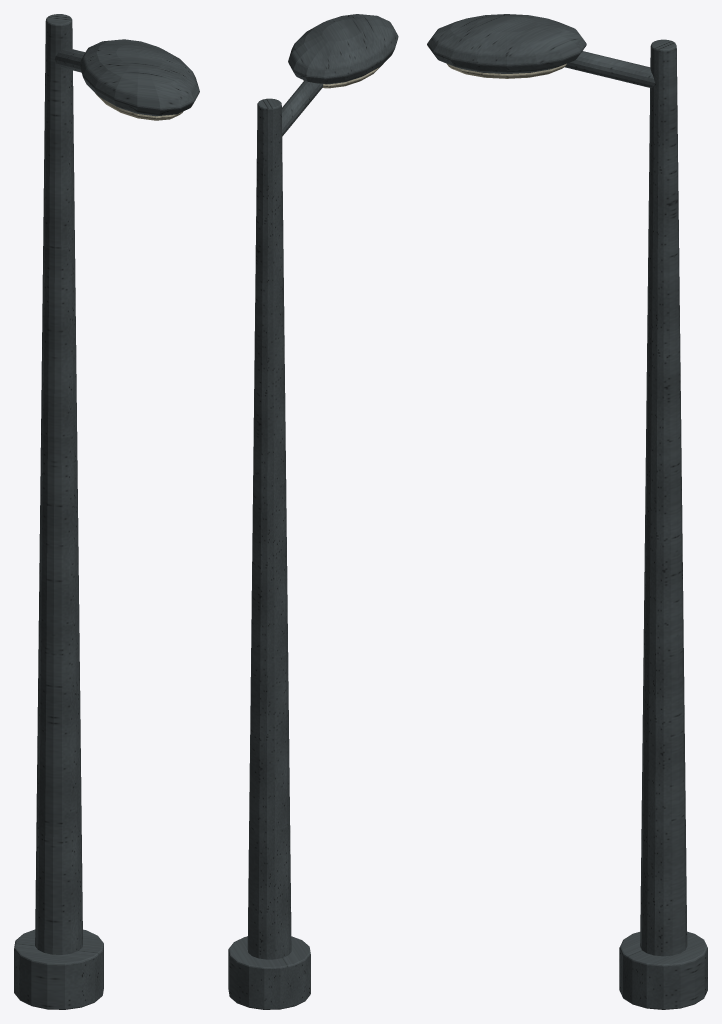
File: PROP-448222CCA57B_lod0.glb
3 renders of one model, left to right at view 1: azimuth 30°, elevation 25°; view 2: azimuth 150°, elevation 25°; view 3: azimuth 270°, elevation 25°, orthographic. The views are drawn at different scales.
Parts seen in each view (by area): view 1: pole.001, lamp_head.001, pole_base.001, lamp_arm.001; view 2: pole.001, lamp_head.001, pole_base.001, lamp_arm.001; view 3: pole.001, lamp_head.001, pole_base.001, lamp_arm.001.
Boxes of the visible parts, bbox=[...] form: pole.001: bbox=[35, 14, 82, 954]; lamp_head.001: bbox=[79, 39, 199, 116]; pole_base.001: bbox=[14, 929, 103, 1009]; lamp_arm.001: bbox=[54, 48, 84, 72]; pole.001: bbox=[247, 98, 291, 959]; lamp_head.001: bbox=[288, 14, 398, 84]; pole_base.001: bbox=[228, 936, 310, 1009]; lamp_arm.001: bbox=[282, 80, 323, 136]; pole.001: bbox=[640, 39, 687, 956]; lamp_head.001: bbox=[427, 14, 586, 73]; pole_base.001: bbox=[619, 931, 707, 1009]; lamp_arm.001: bbox=[564, 51, 654, 87].
Bounding box in the file's own units: 0.4965 × 5.32 × 1.4.
Materials: 2 (2 with a texture image).
